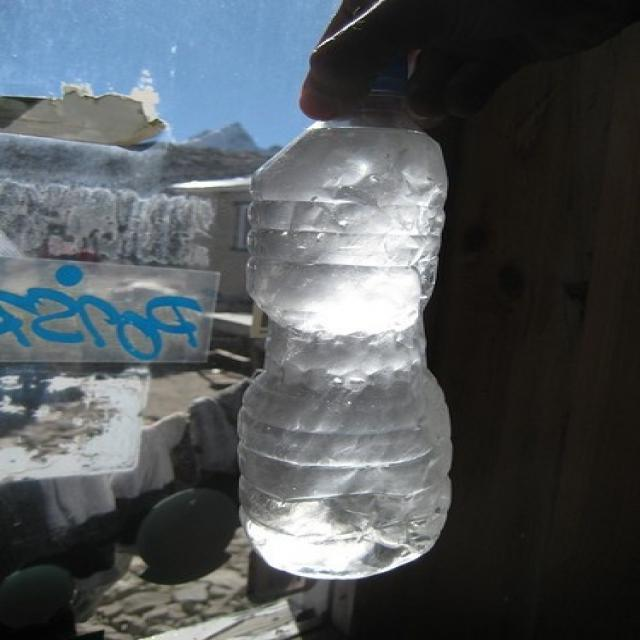plastic_bottle: (239, 70, 453, 578)
